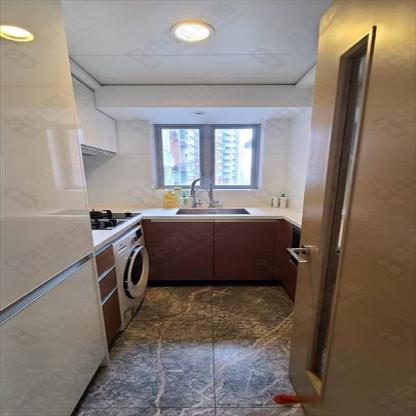Cupboard: (144, 219, 276, 281)
Faucet: (183, 175, 223, 206)
Sink: (171, 208, 251, 215)
Stove: (88, 208, 142, 230)
Washing Machine: (110, 224, 150, 333)
